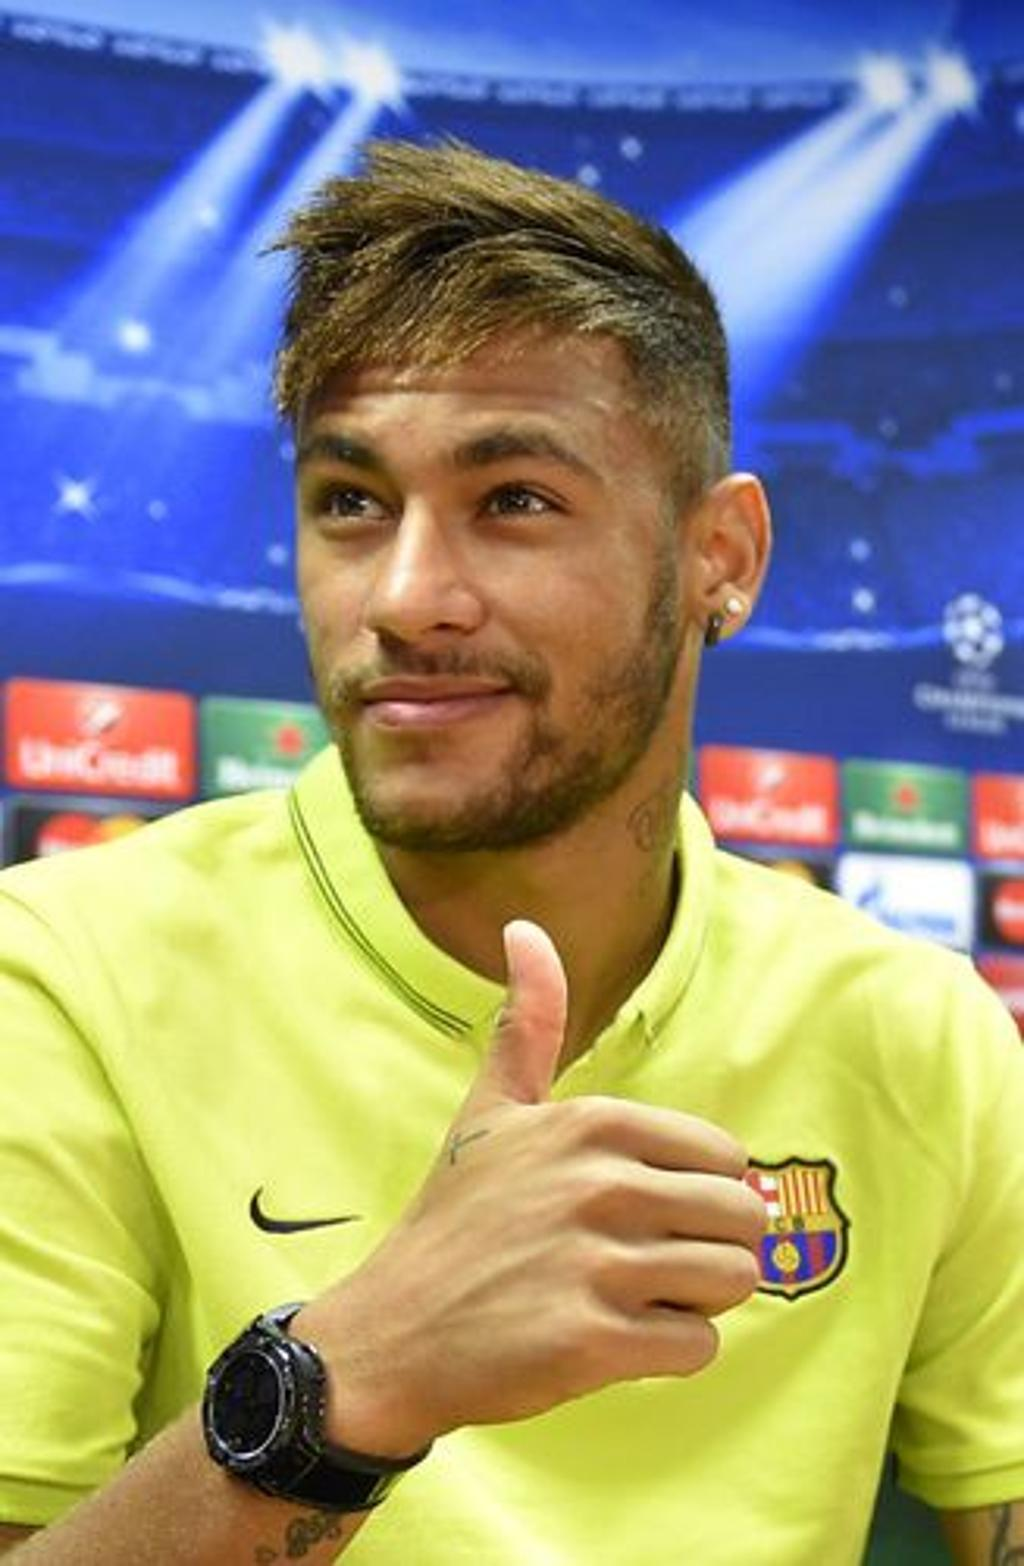face: (294, 346, 701, 850)
